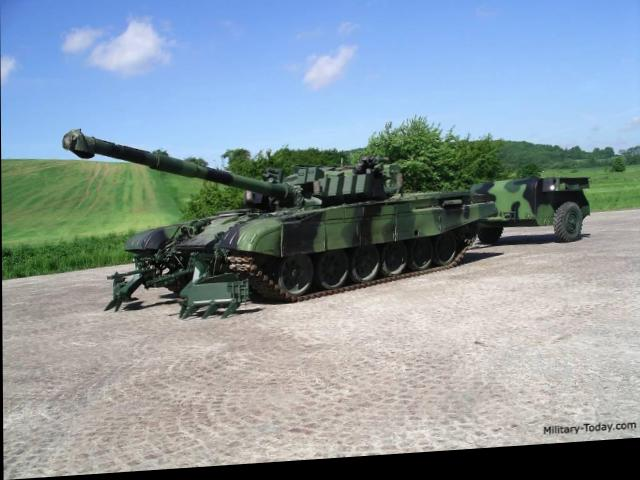tank: (127, 157, 486, 317)
